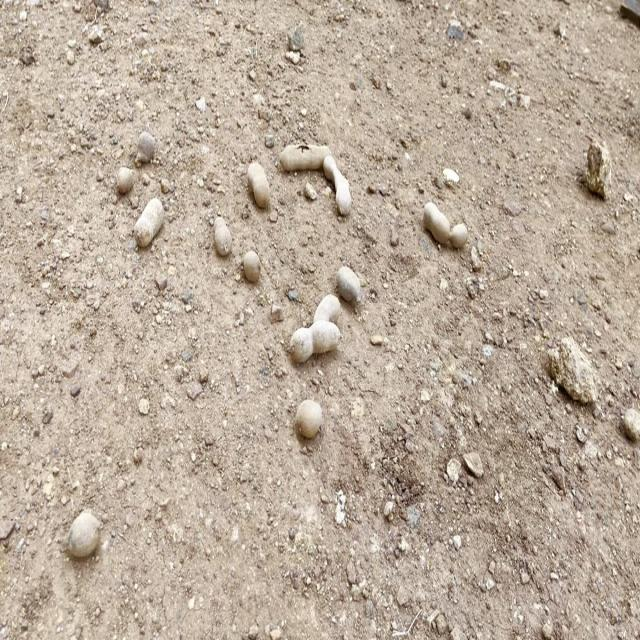tamarind: (278, 128, 356, 212), (420, 195, 468, 249), (64, 506, 102, 562), (290, 322, 340, 357), (240, 154, 270, 210), (291, 397, 327, 440), (134, 197, 162, 247), (240, 247, 272, 290), (208, 209, 233, 258), (334, 258, 362, 297)
